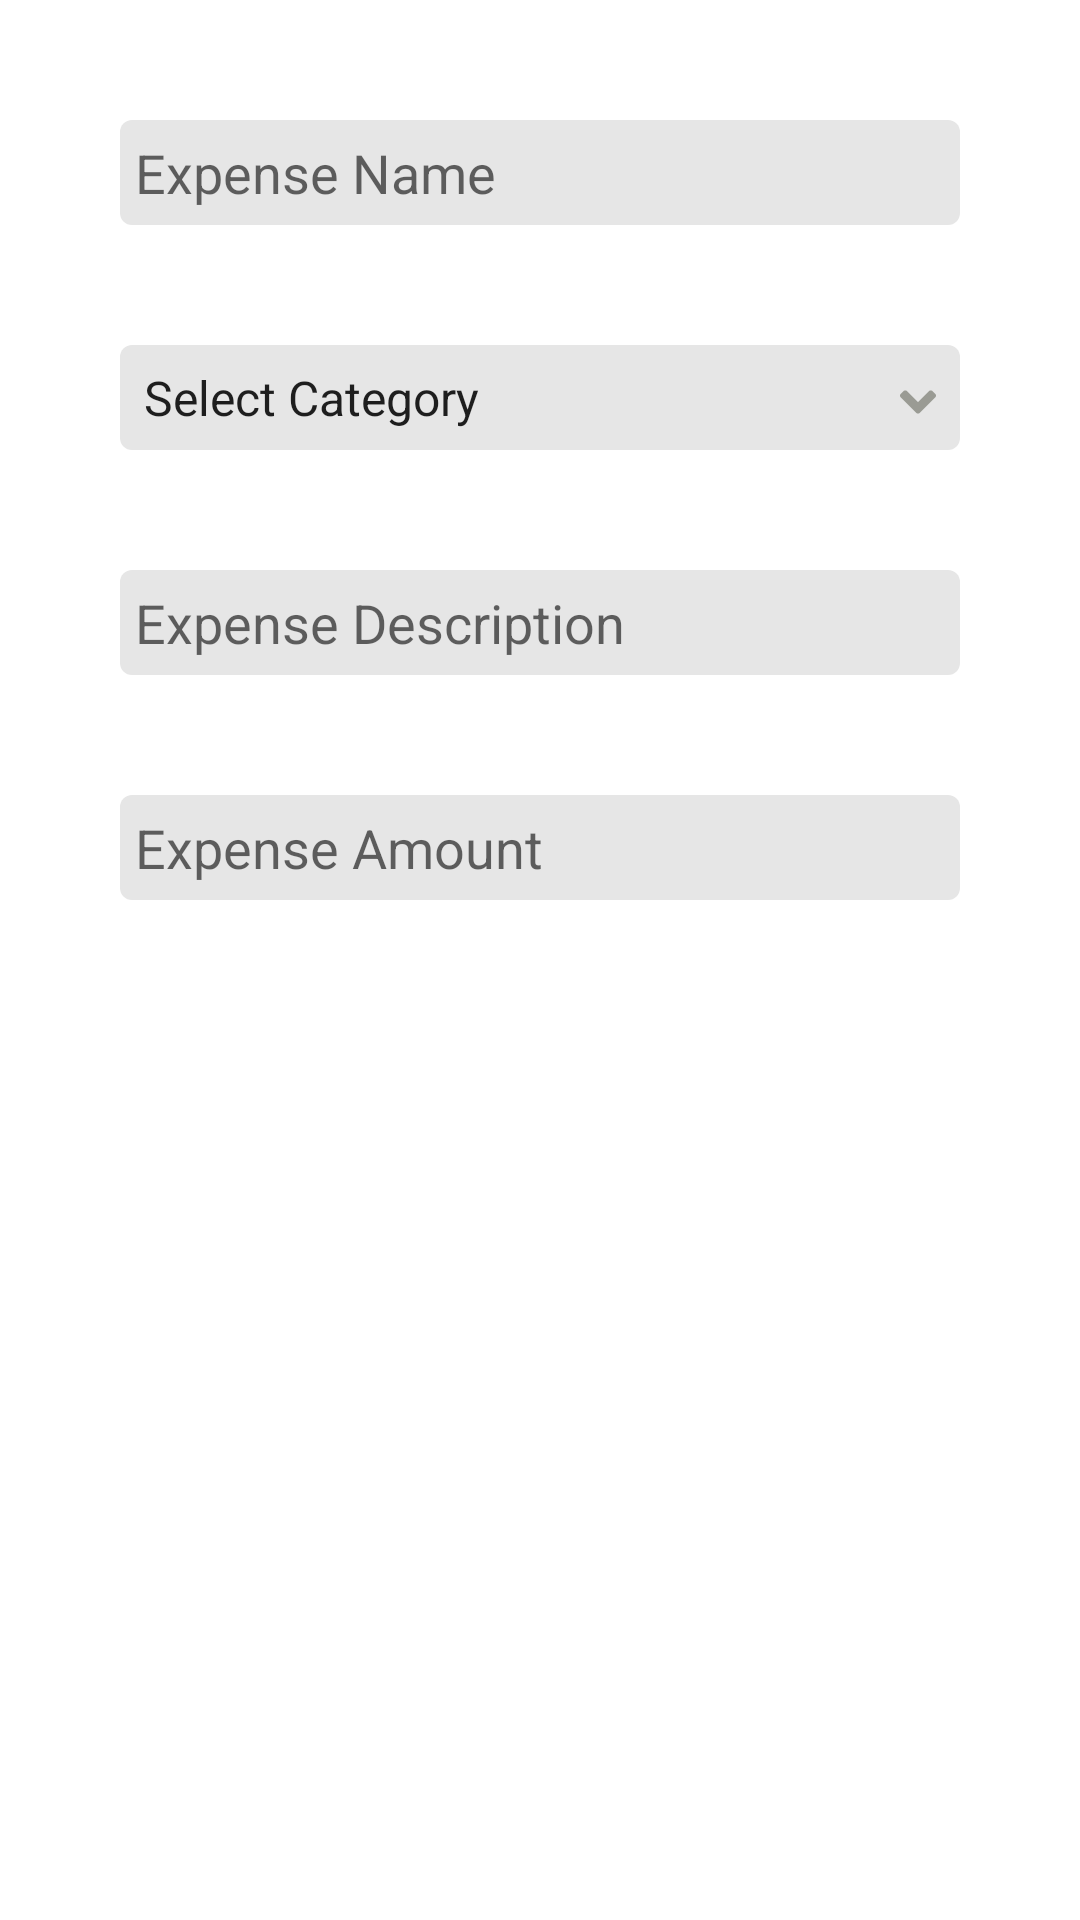

Icon bounding boxes for this 1080px x 1920px phone screenshot, format (x1, y1, x2, y2):
angle down: (900, 390, 936, 414)
